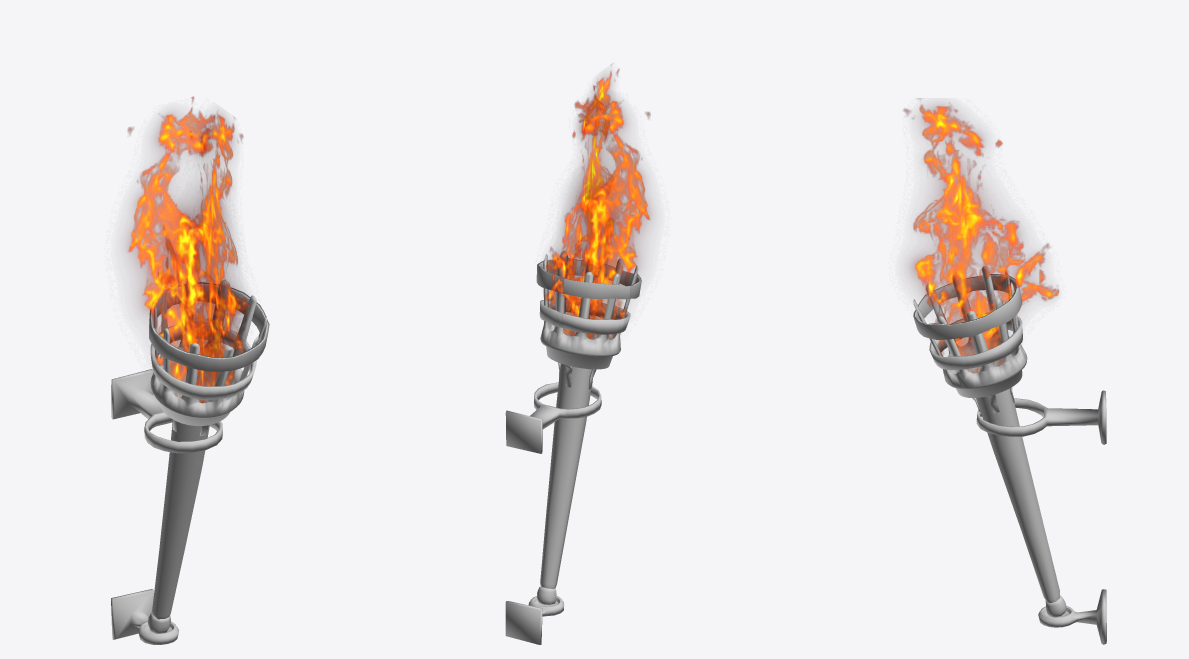
3 views of the same model, side by side, from view 1: azimuth 30°, elevation 25°; view 2: azimuth 150°, elevation 25°; view 3: azimuth 270°, elevation 25° (orthographic). The views are drawn at different scales.
Parts seen in each view (by area): view 1: flame, Torch; view 2: Torch, flame; view 3: Torch, flame.
Part boxes in pixels (<box>): flame: <box>125,96,248,403</box>; Torch: <box>111,279,269,644</box>; Torch: <box>505,251,641,644</box>; flame: <box>545,64,652,339</box>; Torch: <box>913,266,1106,644</box>; flame: <box>903,98,1059,373</box>.
Size of the model in its own units: 0.5748 by 0.8589 by 0.5748.
